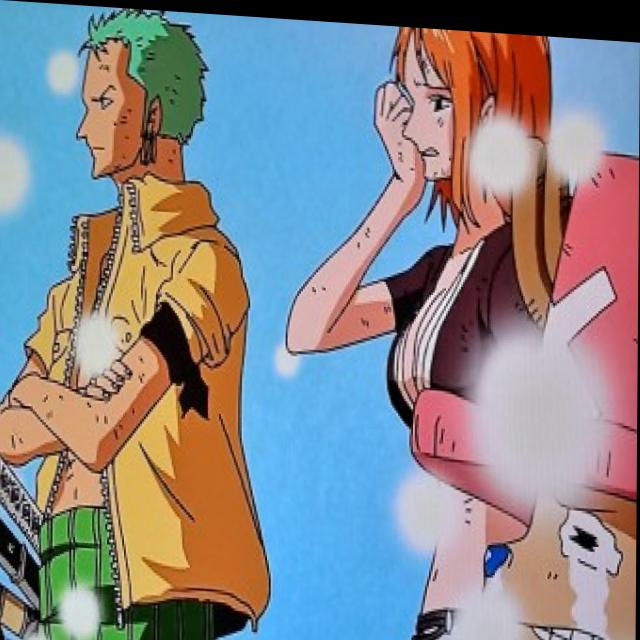Chyopa: (407, 129, 639, 640)
Nami: (377, 20, 545, 209)
Zoro: (63, 4, 209, 187)
